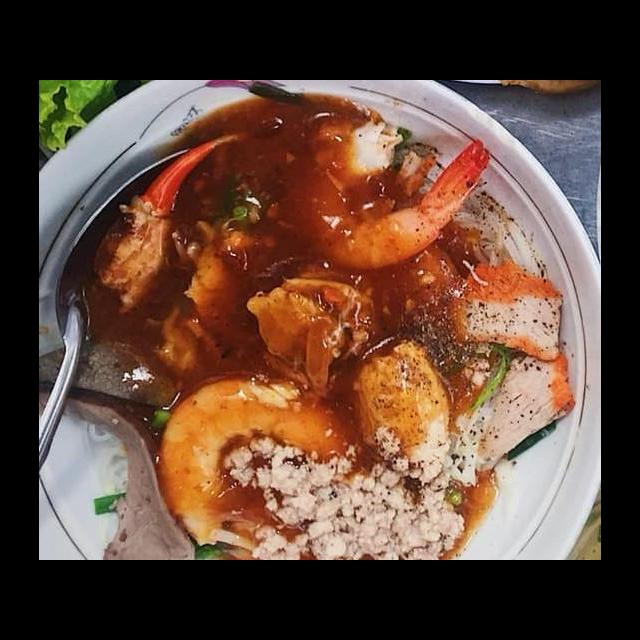gan: (40, 381, 205, 560), (40, 335, 199, 416)
thit bam: (220, 420, 477, 560)
thit heo: (456, 344, 578, 478), (446, 253, 566, 366)
tom: (145, 367, 382, 555), (256, 112, 496, 279)
